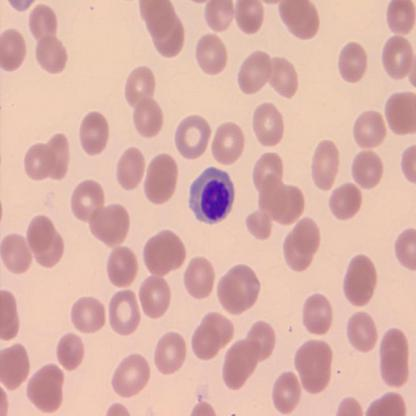NRC: (186, 166, 236, 226)
